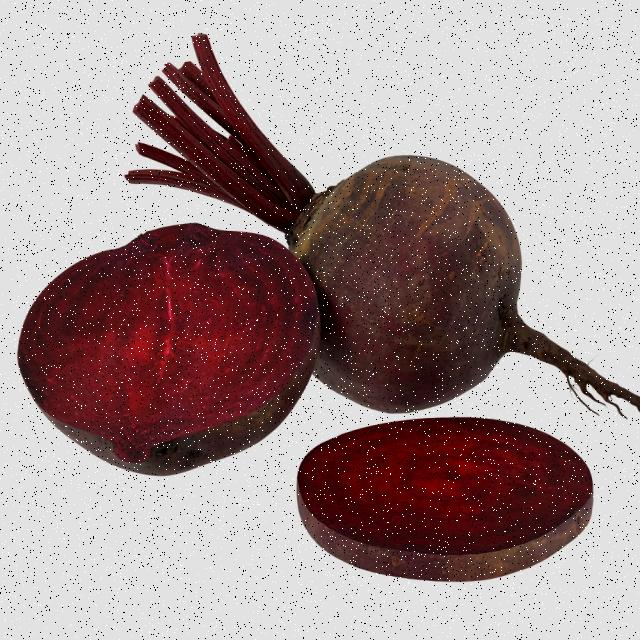Beetroot: (281, 100, 635, 450), (9, 203, 322, 551), (297, 405, 606, 605)
